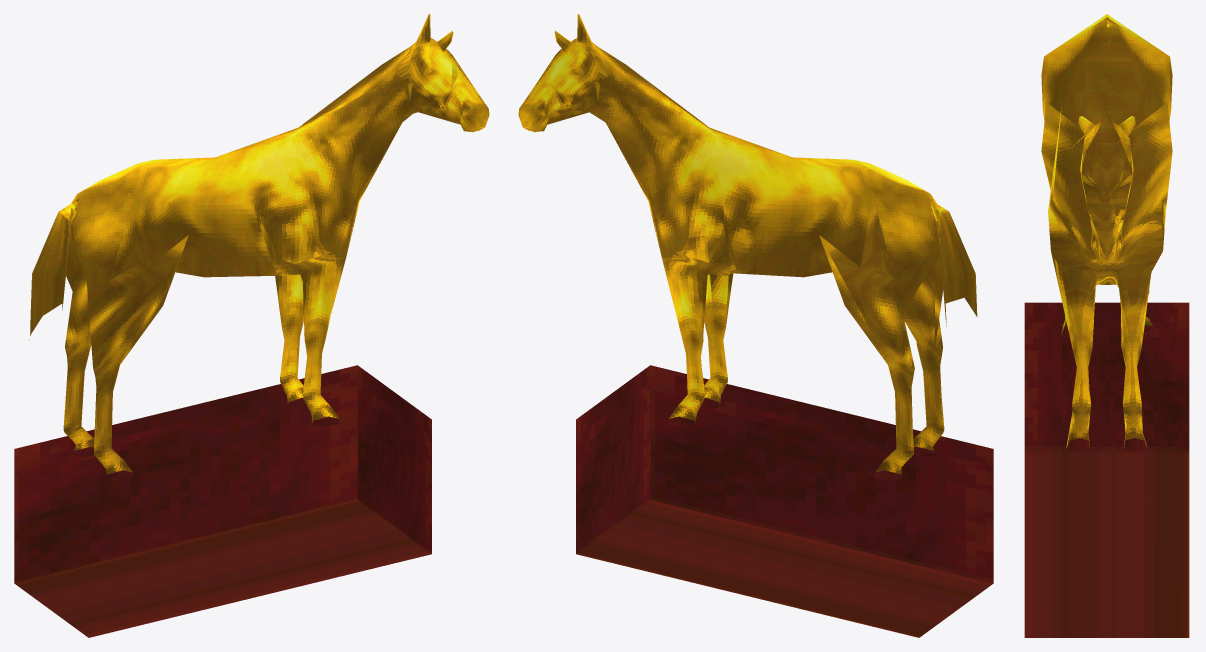
Rendered from ps2_save-icons_winningpost5-horsederby.glb.
3 renders of one model, left to right at view 1: azimuth 30°, elevation 25°; view 2: azimuth 150°, elevation 25°; view 3: azimuth 270°, elevation 25°, orthographic. The views are drawn at different scales.
Parts seen in each view (by area): view 1: ic_taisen.ico; view 2: ic_taisen.ico; view 3: ic_taisen.ico.
Part boxes in pixels (left/top/right/bottom): ic_taisen.ico: left=14, top=14, right=489, bottom=637; ic_taisen.ico: left=518, top=14, right=993, bottom=637; ic_taisen.ico: left=1024, top=14, right=1189, bottom=637.
Bounding box in the file's own units: 3.83 × 3.93 × 1.1.
Materials: 1 (1 with a texture image).
